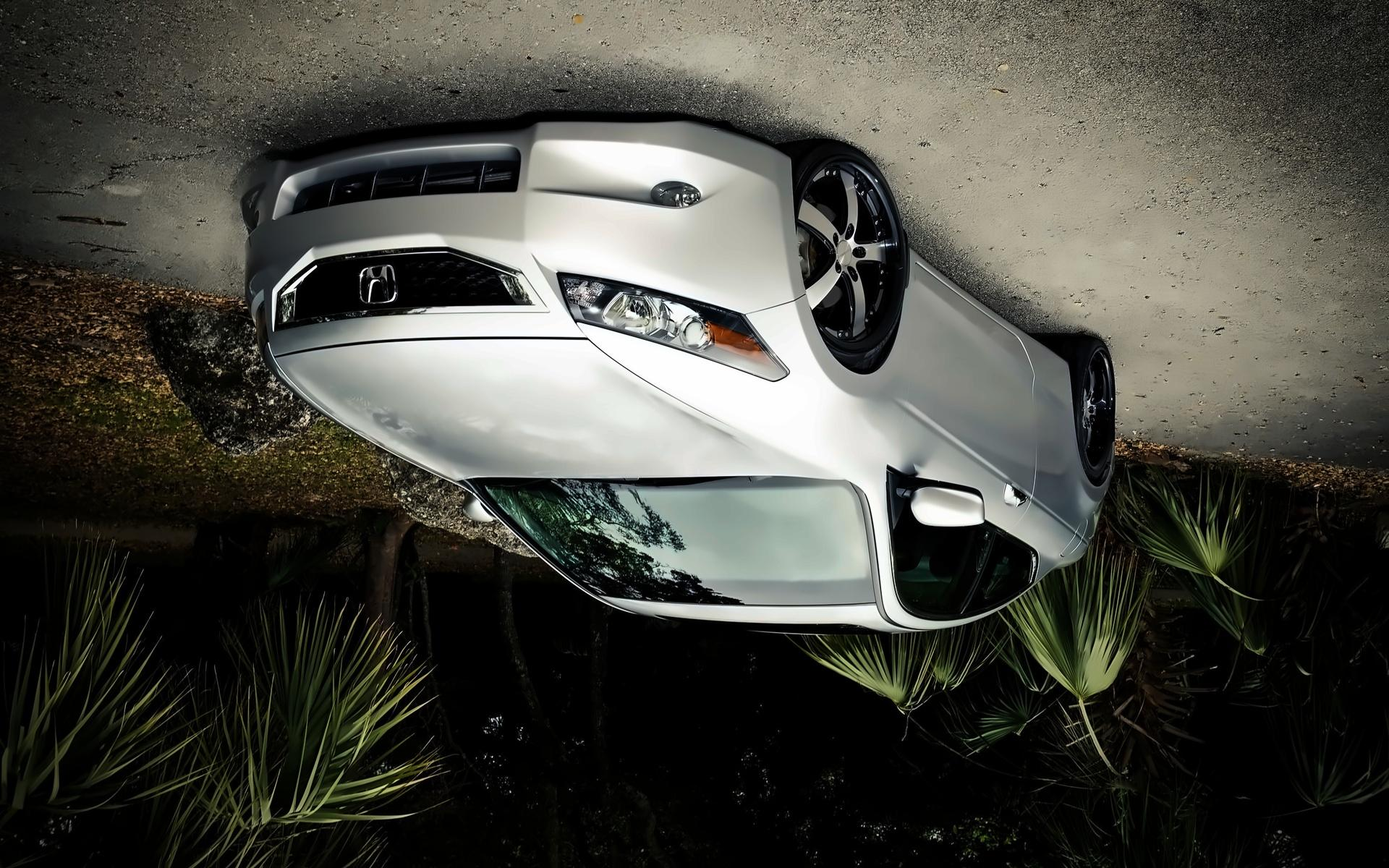Car hood: (258, 336, 847, 485)
Driver-s door - -F-R-: (861, 229, 1043, 650)
Fender - -F-R-: (770, 268, 937, 489)
Fender - -R-R-: (1003, 418, 1142, 570)
Front bumper: (226, 100, 813, 344)
Headlight - -R-: (551, 272, 790, 381)
Side bumper - -R-: (900, 236, 1079, 410)
Side mirror - -R-: (880, 465, 989, 539)
